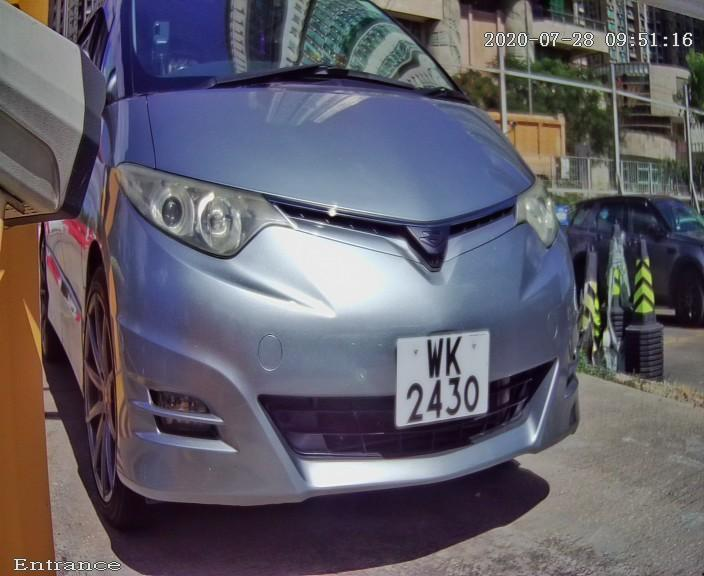privatecar: (10, 13, 651, 561)
